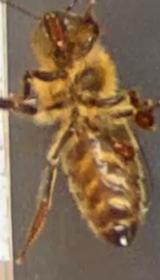varroa_mite: (102, 120, 143, 166)
